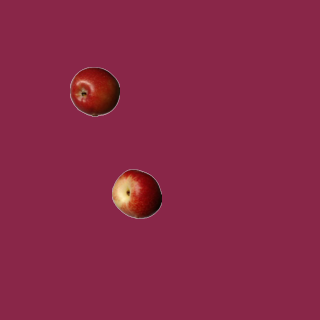Apple Braeburn: (69, 66, 119, 116)
Nectarine: (111, 168, 161, 218)
